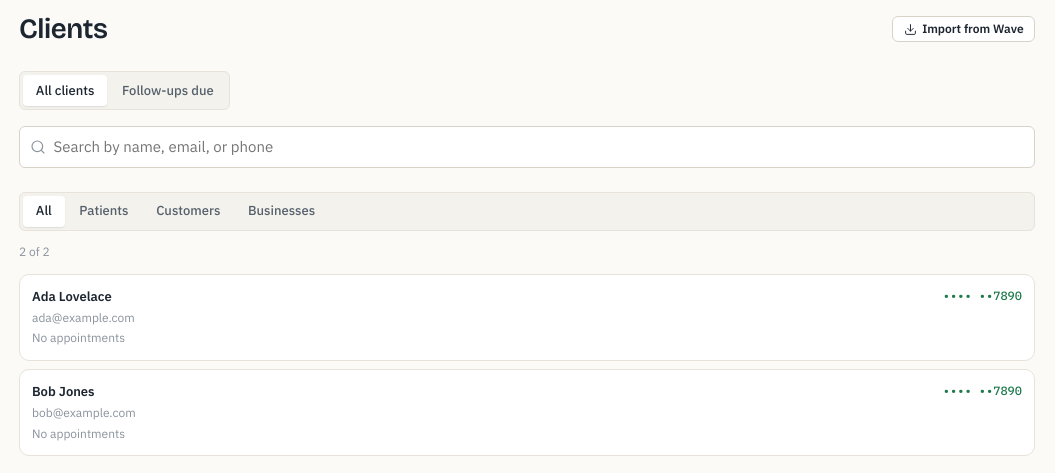
Test case: Patients › filters by name
Expected: the text "Ada Lovelace" is shown, left=32, top=288, right=112, bottom=304
In the search field named "Search clients": (527, 147) left=19, top=126, right=1035, bottom=168, type "bob"
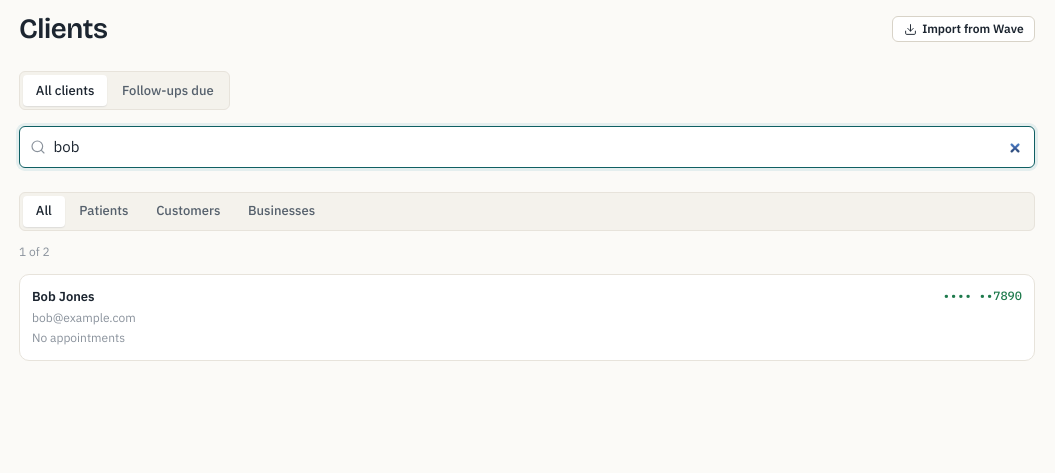
Expected: the text "Bob Jones" is shown, left=32, top=288, right=95, bottom=304
Now the button "Ada Lovelace" is gone
Now the text "1 of 2" is shown, box left=19, top=244, right=50, bottom=259
